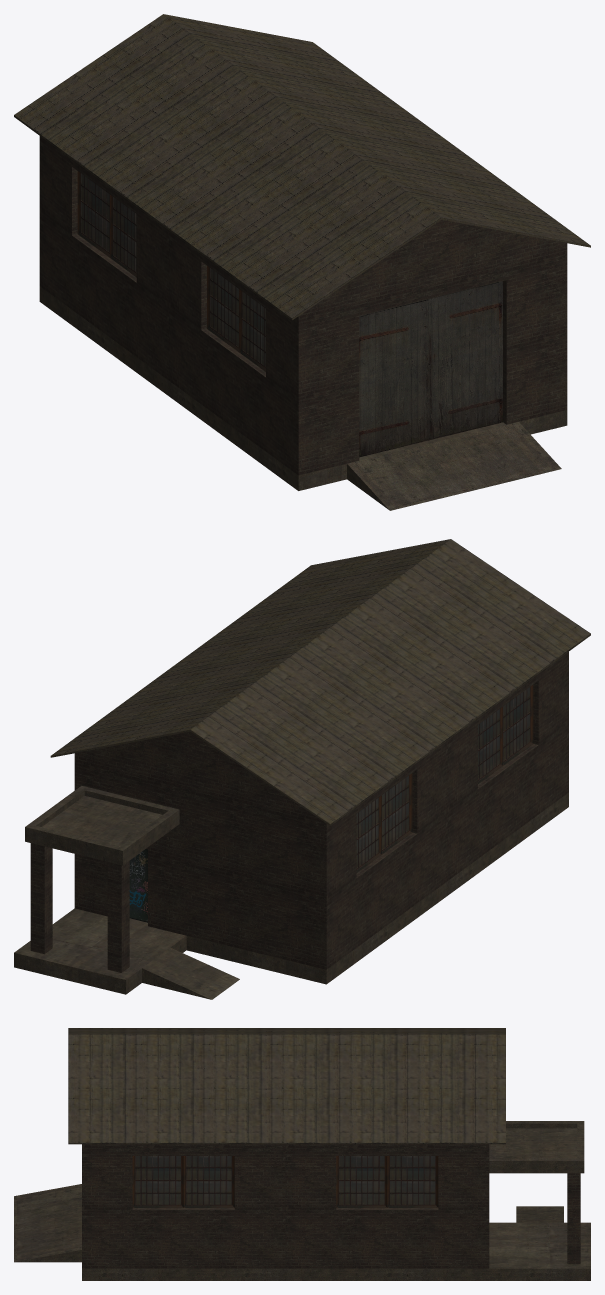
File: warehouse_mx_2.fbx
The picture shows the model from 3 angles, top to bottom: view 1: azimuth 30°, elevation 25°; view 2: azimuth 150°, elevation 25°; view 3: azimuth 270°, elevation 25°; orthographic projection. The views are drawn at different scales.
Visible parts, largest first — view 1: warehouse_mx_2, garage_door_hr_3_piece_2, garage_door_hr_3_piece_1; view 2: warehouse_mx_2, door_hr_9; view 3: warehouse_mx_2.
Part boxes in pixels (box(x1,y1,x2,y2)): warehouse_mx_2: box(14, 14, 590, 510); garage_door_hr_3_piece_2: box(429, 281, 502, 439); garage_door_hr_3_piece_1: box(359, 299, 429, 457); warehouse_mx_2: box(14, 539, 590, 999); door_hr_9: box(129, 849, 147, 922); warehouse_mx_2: box(14, 1028, 590, 1280).
Bounding box in the file's own units: 8 × 17 × 6.32.
